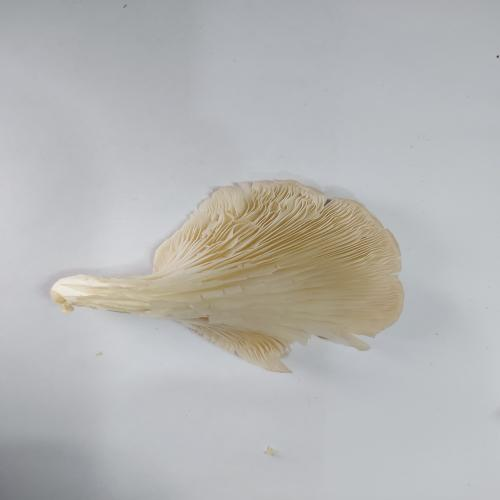Oyster Mushroom: (49, 178, 405, 374)
